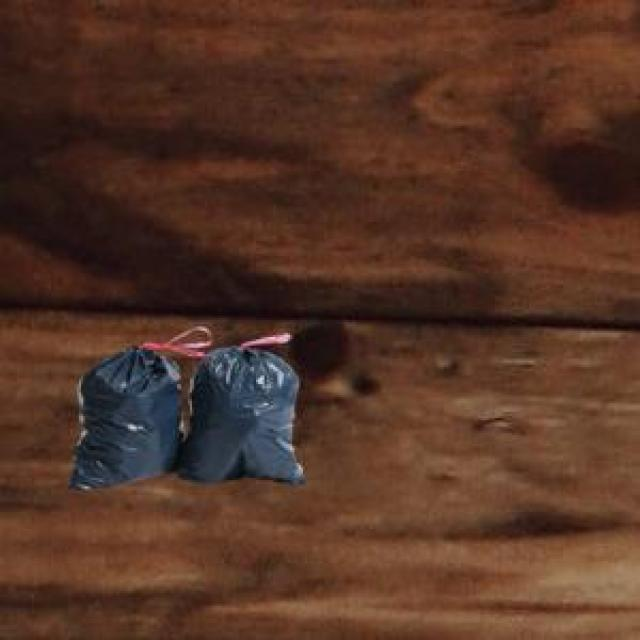miscellaneous trash: (64, 332, 300, 484)
